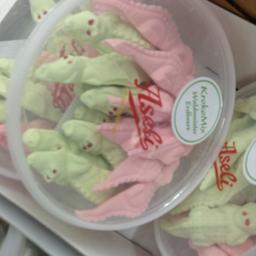candy: (14, 2, 236, 228)
